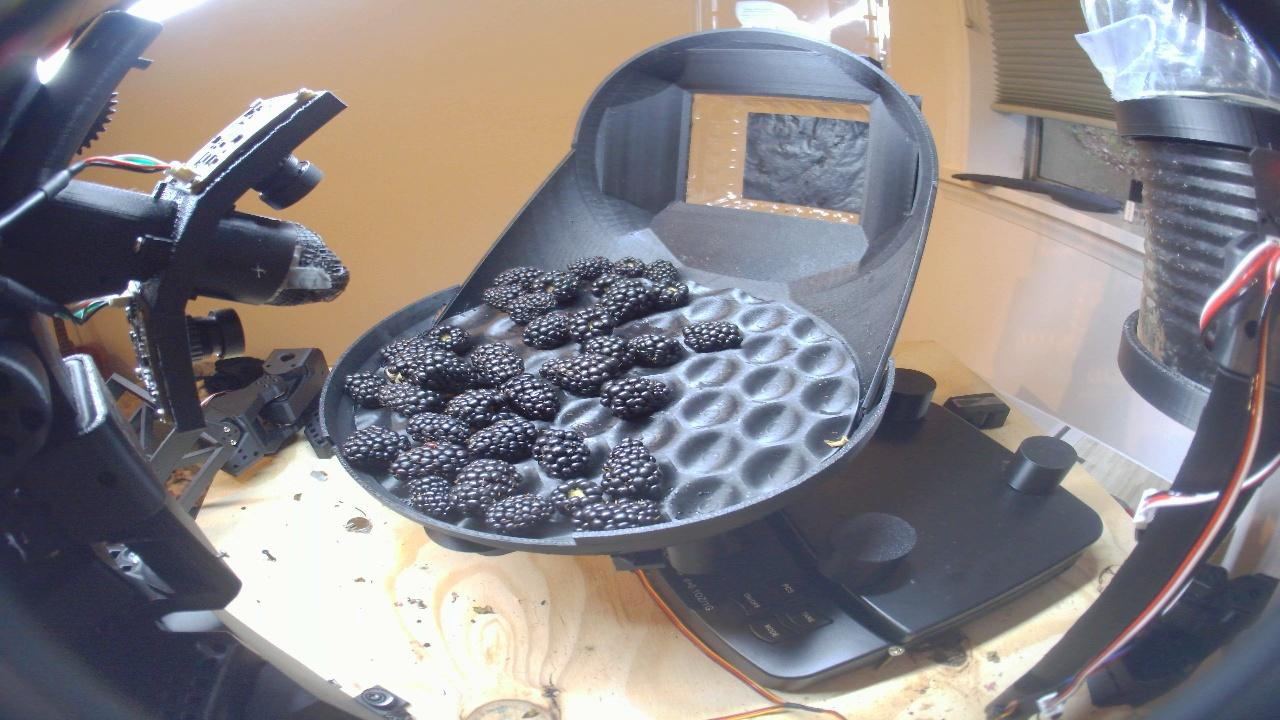berry: (452, 460, 523, 515), (603, 440, 664, 499), (539, 353, 617, 396), (403, 348, 472, 393), (391, 441, 470, 480), (341, 426, 409, 471), (485, 494, 555, 536), (467, 419, 537, 461), (601, 378, 672, 419), (533, 428, 591, 478), (500, 374, 559, 422), (445, 388, 514, 429), (572, 499, 662, 530), (408, 475, 462, 519), (468, 343, 523, 386), (600, 279, 655, 322), (378, 383, 443, 417), (407, 412, 472, 444), (582, 336, 633, 373), (628, 333, 683, 367), (551, 478, 602, 514), (683, 321, 742, 352), (387, 339, 430, 381), (568, 306, 615, 341), (532, 271, 579, 306), (523, 313, 569, 348), (510, 291, 558, 323), (345, 372, 388, 407), (426, 324, 471, 354), (494, 265, 542, 289), (652, 280, 688, 309), (483, 285, 523, 311), (568, 256, 612, 279), (380, 338, 417, 363), (643, 260, 677, 282), (591, 272, 622, 296), (613, 257, 644, 276)
